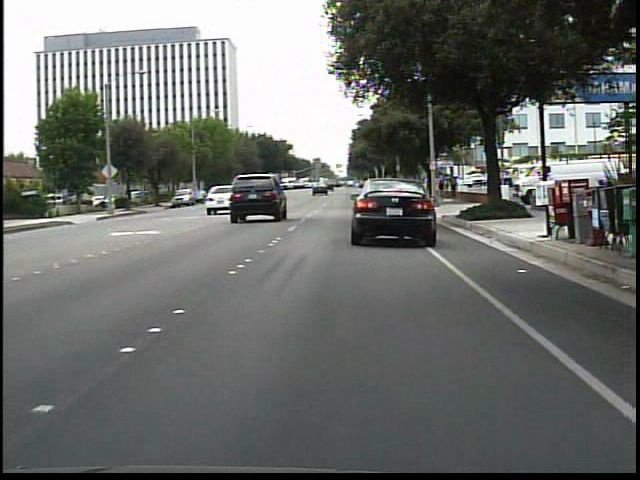person: (448, 176, 459, 203), (436, 177, 447, 201)
